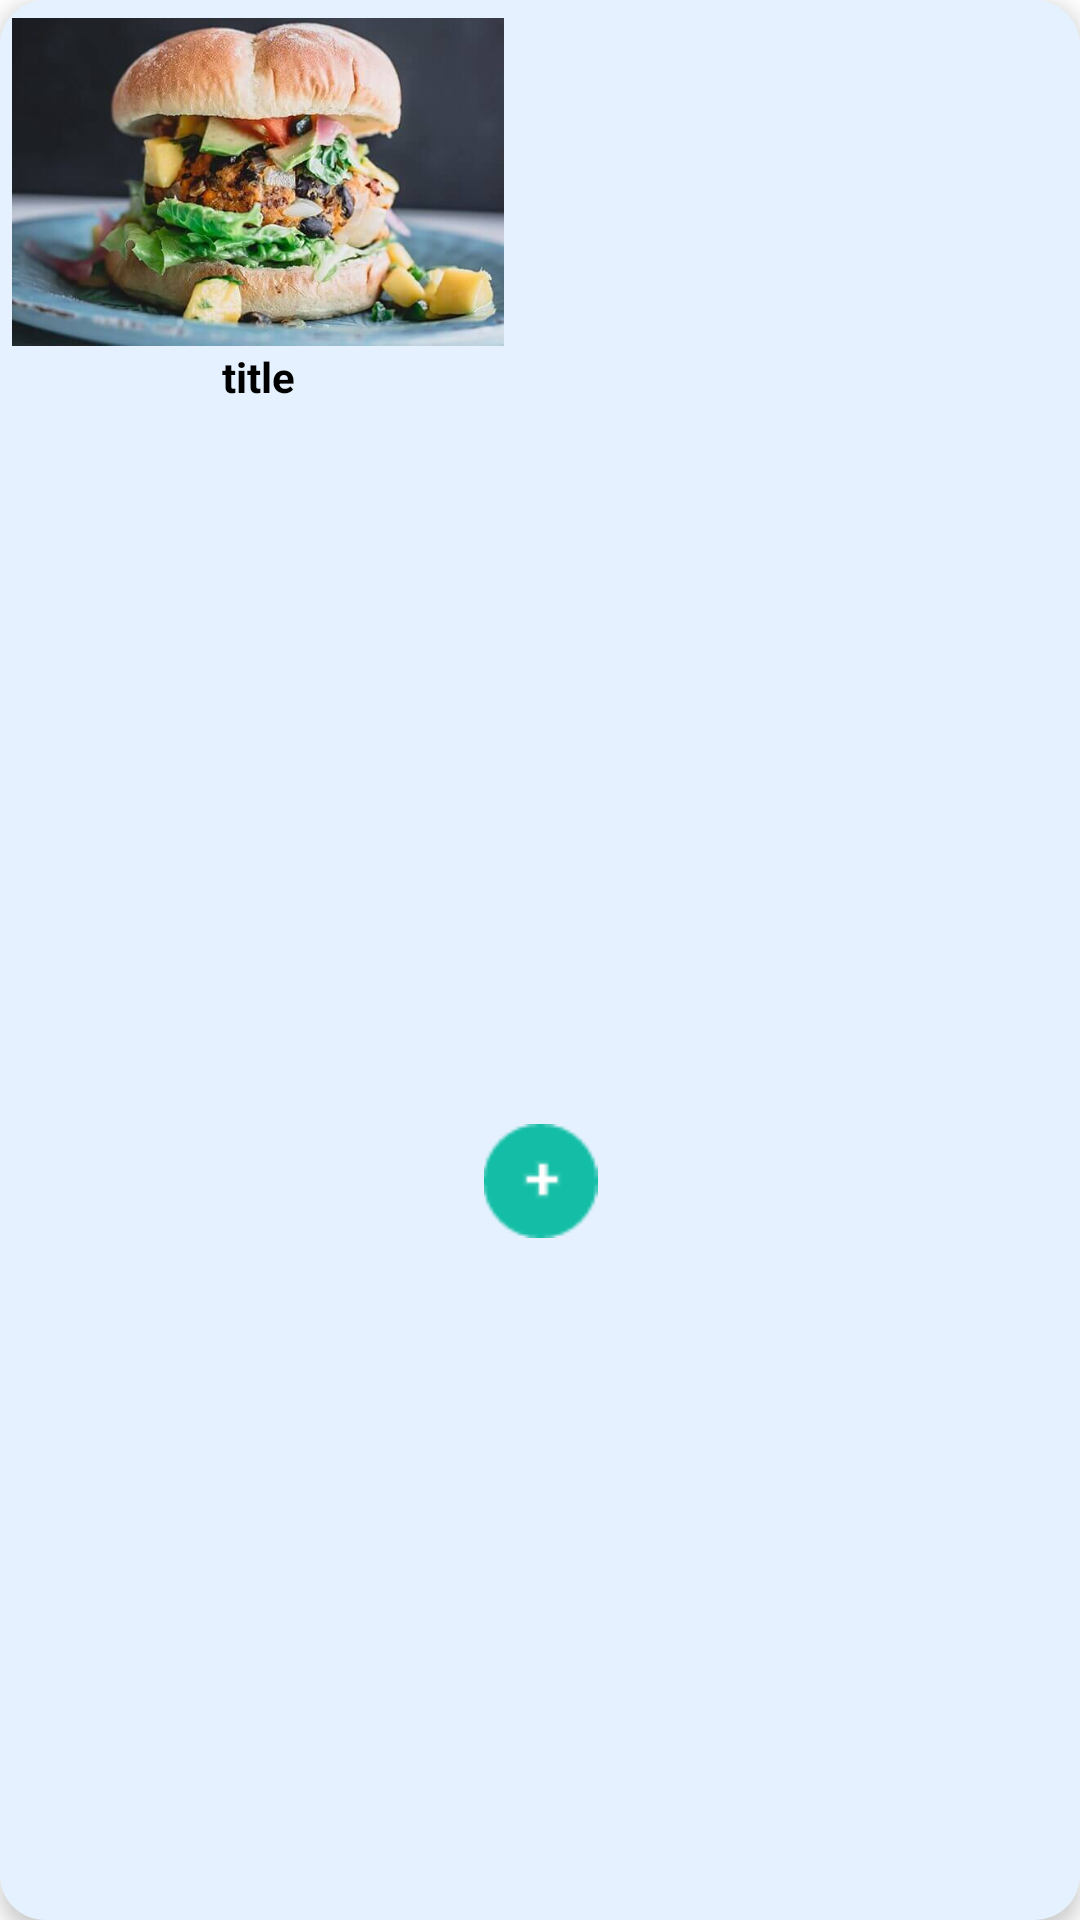

Named icons in this screenshot (1080px x 1920px) and their bounding boxes, rect(x1, y1, x2, y2):
add: rect(484, 1124, 598, 1238)
